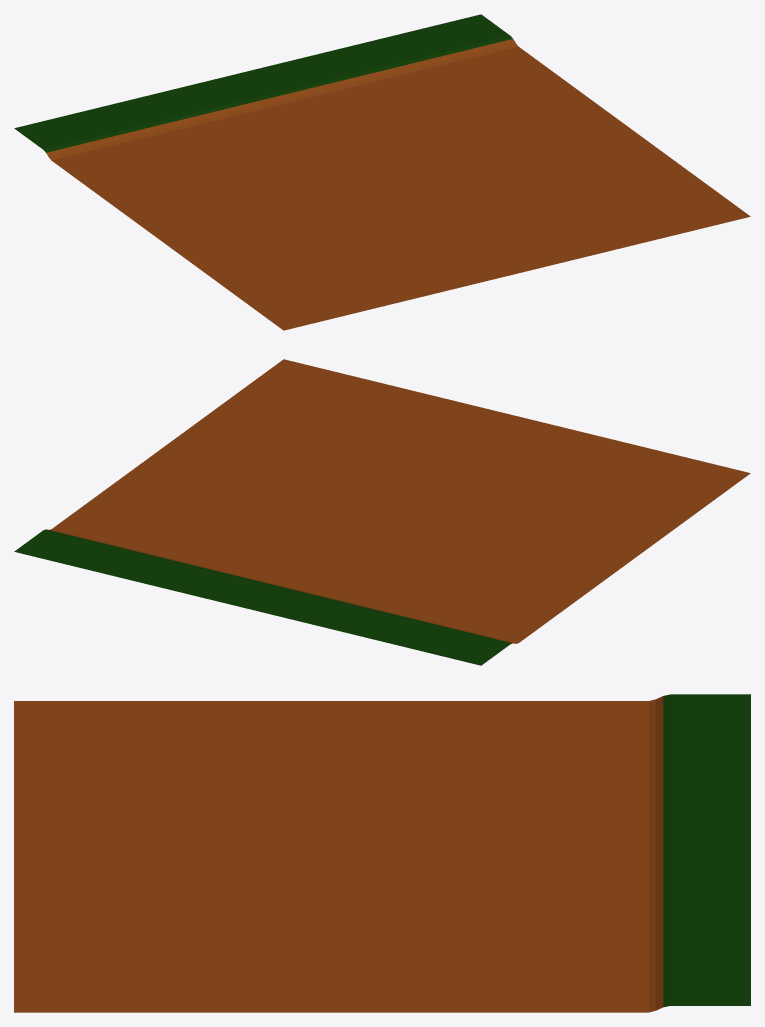
Rendered from Terrain_Part_Plane_18.fbx.
The picture shows the model from 3 angles, top to bottom: view 1: azimuth 30°, elevation 25°; view 2: azimuth 150°, elevation 25°; view 3: azimuth 270°, elevation 25°; orthographic projection. The views are drawn at different scales.
Visible parts, largest first — view 1: Terrain_Part_Plane_18; view 2: Terrain_Part_Plane_18; view 3: Terrain_Part_Plane_18.
Part boxes in pixels (x1,y1,x2,y2): Terrain_Part_Plane_18: (14,14,750,330); Terrain_Part_Plane_18: (14,359,750,665); Terrain_Part_Plane_18: (14,694,750,1012).
Size of the model in its own units: 2000 by 20 by 2000.
